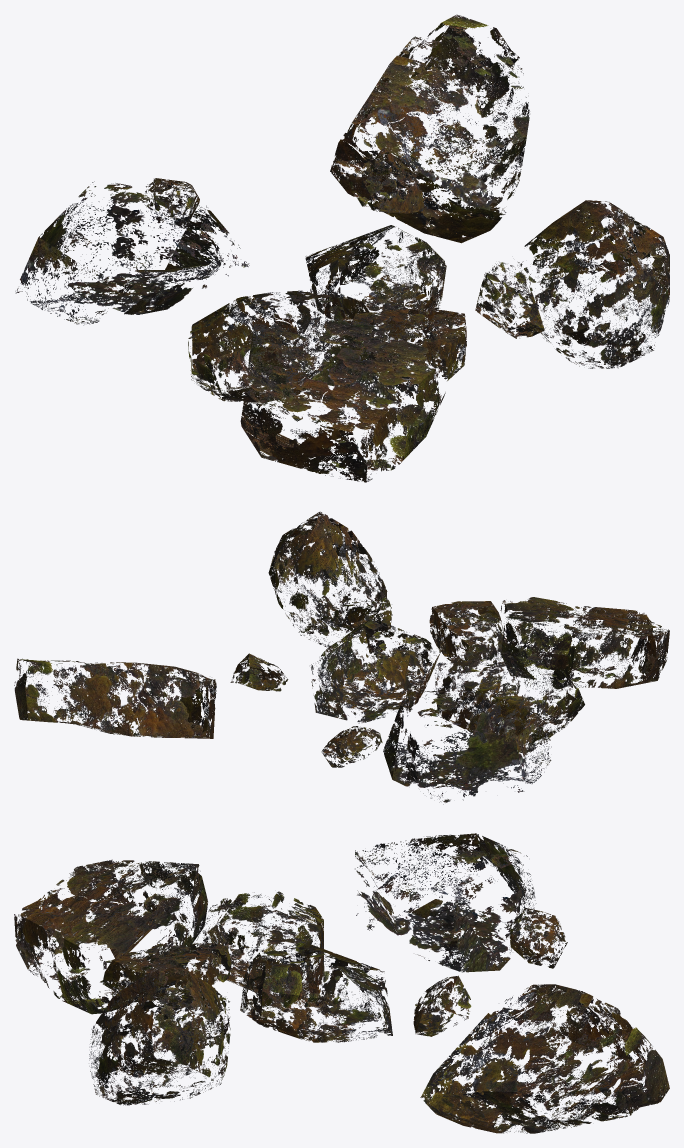
Rendered from Moss 02.FBX.
The picture shows the model from 3 angles, top to bottom: view 1: azimuth 30°, elevation 25°; view 2: azimuth 150°, elevation 25°; view 3: azimuth 270°, elevation 25°; orthographic projection. The views are drawn at different scales.
Parts seen in each view (by area): view 1: Moss 02; view 2: Moss 02; view 3: Moss 02.
Boxes of the visible parts, bbox=[...] form: Moss 02: bbox=[15, 14, 669, 482]; Moss 02: bbox=[14, 511, 669, 804]; Moss 02: bbox=[14, 833, 669, 1133].
Bounding box in the file's own units: 65.13 × 18.34 × 68.85.
